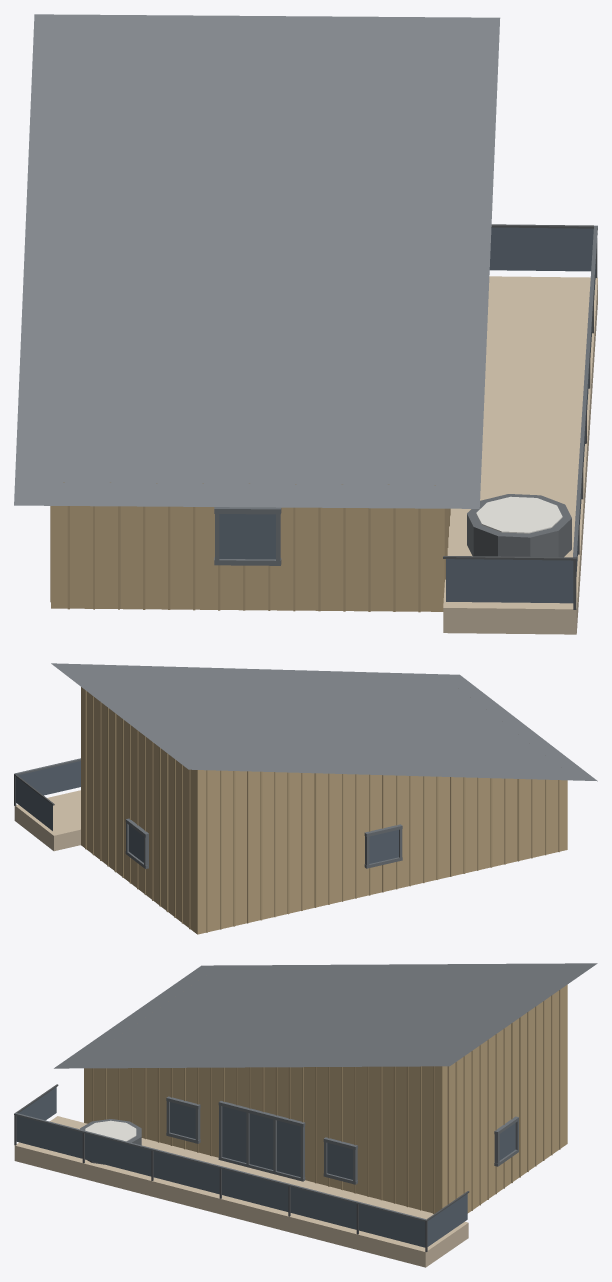
3 renders of one model, top to bottom at view 1: azimuth 30°, elevation 25°; view 2: azimuth 150°, elevation 25°; view 3: azimuth 270°, elevation 25°, orthographic. The views are drawn at different scales.
Parts seen in each view (by area): view 1: slate, door_wood, larch, window_glass_007, window_glass_008, door_wood_p, band_dark, slate_dk, window_glass_016, string, pipe; view 2: door_wood, slate, door_wood_p, larch, slate_dk, window_glass_006, window_glass_008, window_glass_015, window_glass_014; view 3: door_wood, slate, larch, door_wood_p, slate_dk, window_glass_003, window_glass_006, window_glass_001, window_glass_002, window_glass_004, window_glass_005, window_glass_009 (+9 smaller).
Part boxes in pixels (<box>): slate: <box>14,14,500,508</box>; door_wood: <box>51,482,444,611</box>; larch: <box>443,276,597,634</box>; window_glass_007: <box>446,559,573,603</box>; window_glass_008: <box>489,227,593,271</box>; door_wood_p: <box>50,506,450,612</box>; band_dark: <box>467,494,571,557</box>; slate_dk: <box>214,225,597,565</box>; window_glass_016: <box>219,514,275,559</box>; string: <box>476,496,562,533</box>; pipe: <box>443,224,597,609</box>; door_wood: <box>81,687,567,934</box>; slate: <box>51,663,597,781</box>; door_wood_p: <box>85,690,559,932</box>; larch: <box>14,790,80,851</box>; slate_dk: <box>15,758,402,868</box>; window_glass_006: <box>18,761,80,795</box>; window_glass_008: <box>15,777,52,830</box>; window_glass_015: <box>369,830,398,863</box>; window_glass_014: <box>129,825,143,862</box>; door_wood: <box>84,984,567,1213</box>; slate: <box>54,963,597,1068</box>; larch: <box>14,1116,468,1267</box>; door_wood_p: <box>92,989,560,1213</box>; slate_dk: <box>14,1096,518,1221</box>; window_glass_003: <box>153,1151,219,1194</box>; window_glass_006: <box>359,1204,425,1247</box>; window_glass_001: <box>16,1116,82,1158</box>; window_glass_002: <box>85,1133,151,1176</box>; window_glass_004: <box>222,1169,288,1211</box>; window_glass_005: <box>290,1187,356,1229</box>; window_glass_009: <box>222,1106,246,1162</box>.
Size of the model in its own units: 15.91 by 5.74 by 17.08.
